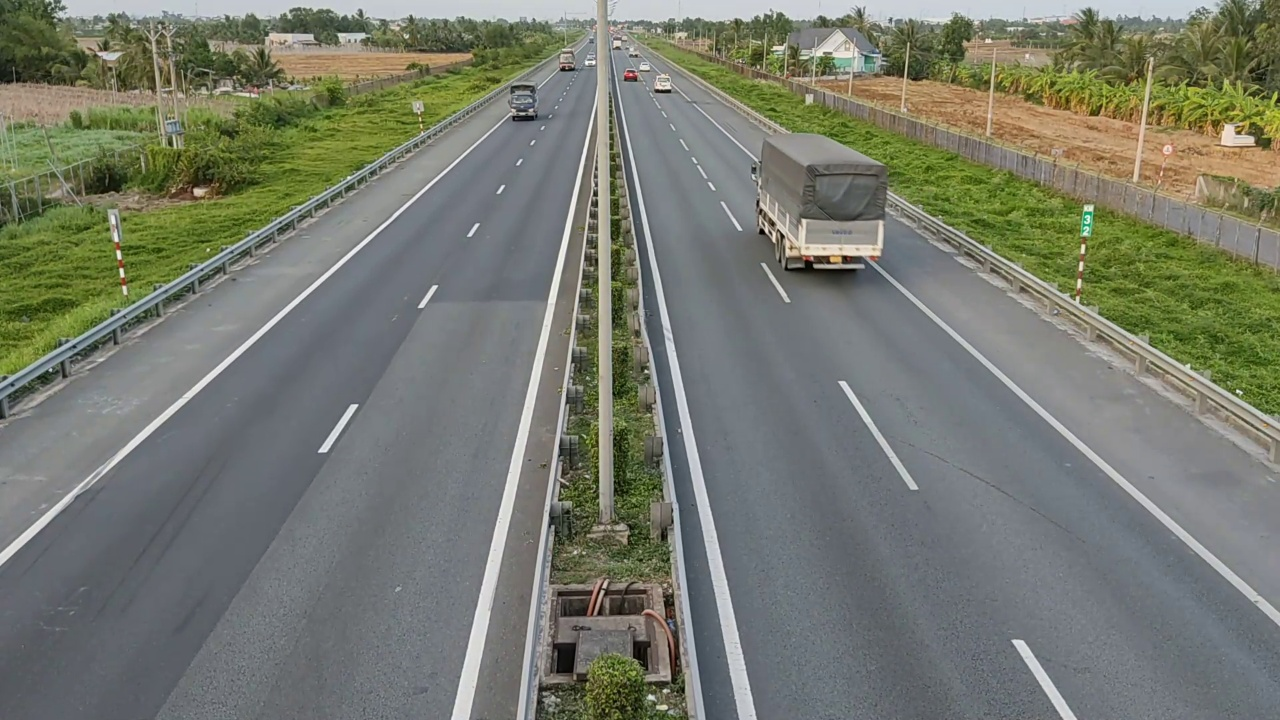car: (653, 73, 673, 93)
truck: (753, 131, 889, 272), (508, 82, 538, 120)
